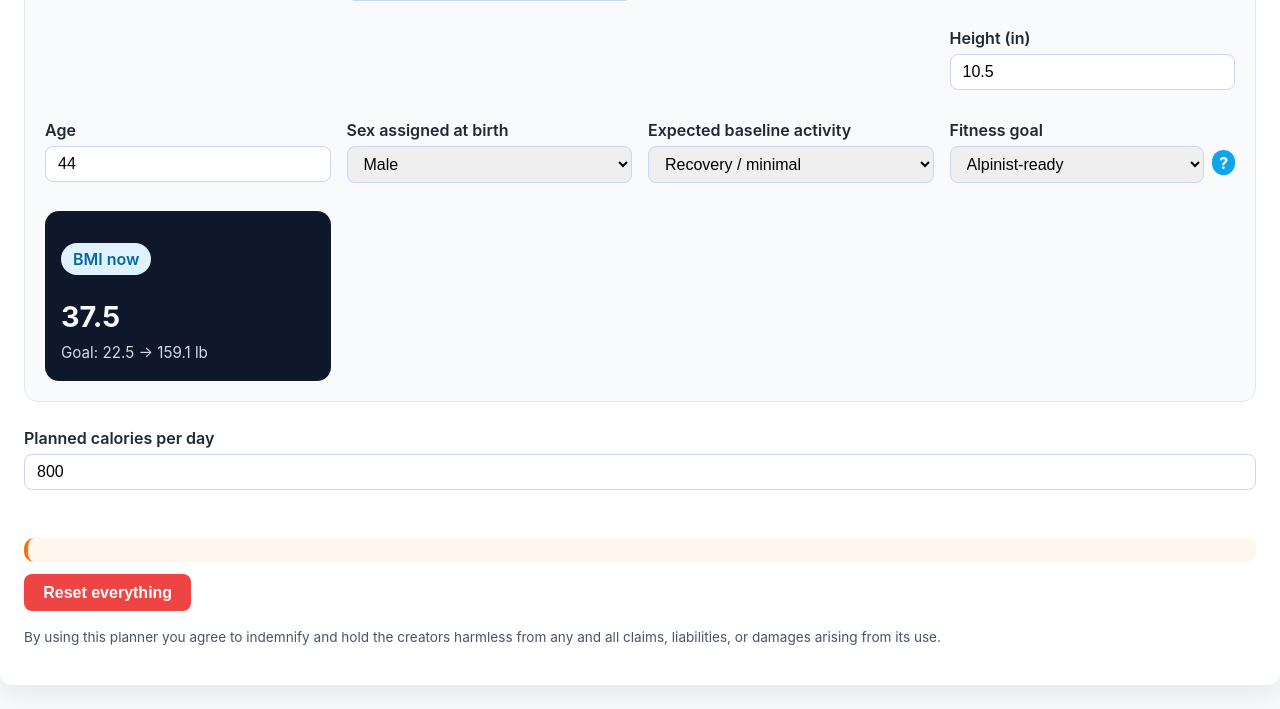
Test: ProfileInputsPanel › alerts when planned calories drop below the recommended minimum
(page scrolled)
Replace the text in the number field labelled "Planned calories per day" with "400": (640, 472) [24,454,1256,490]
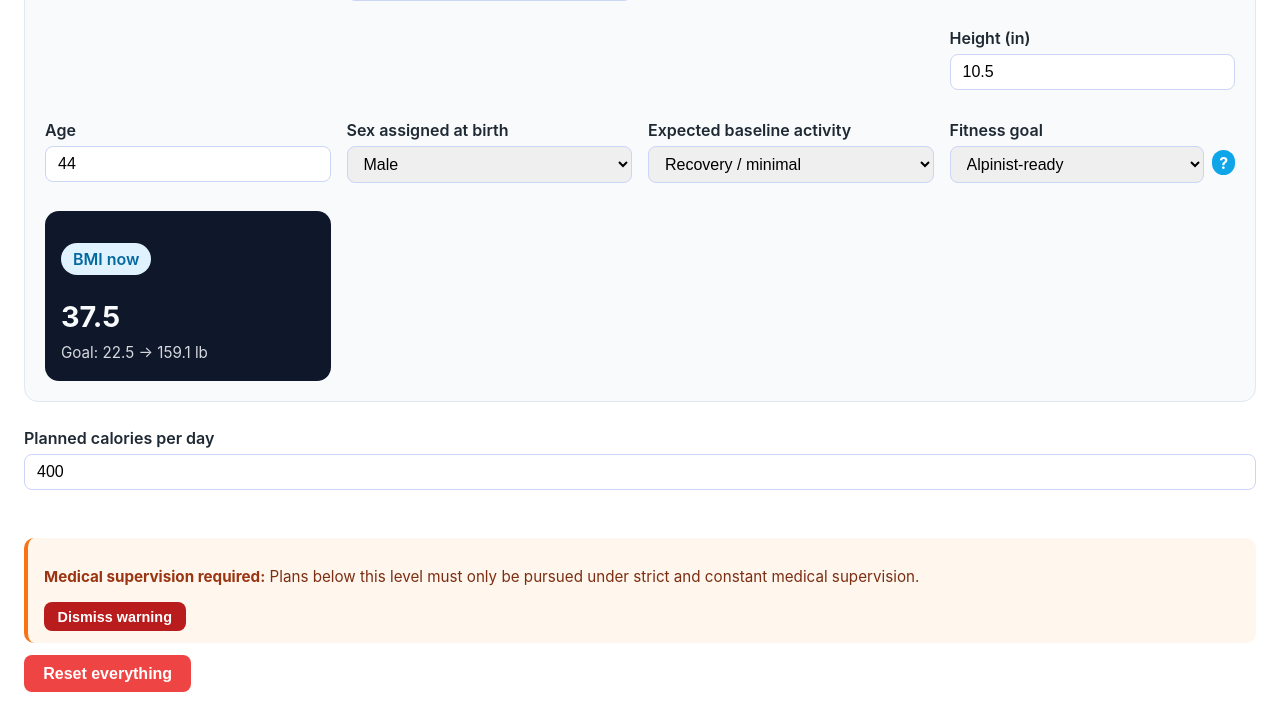
Now the text "Medical supervision required:" is shown, box [44,567,265,586]
